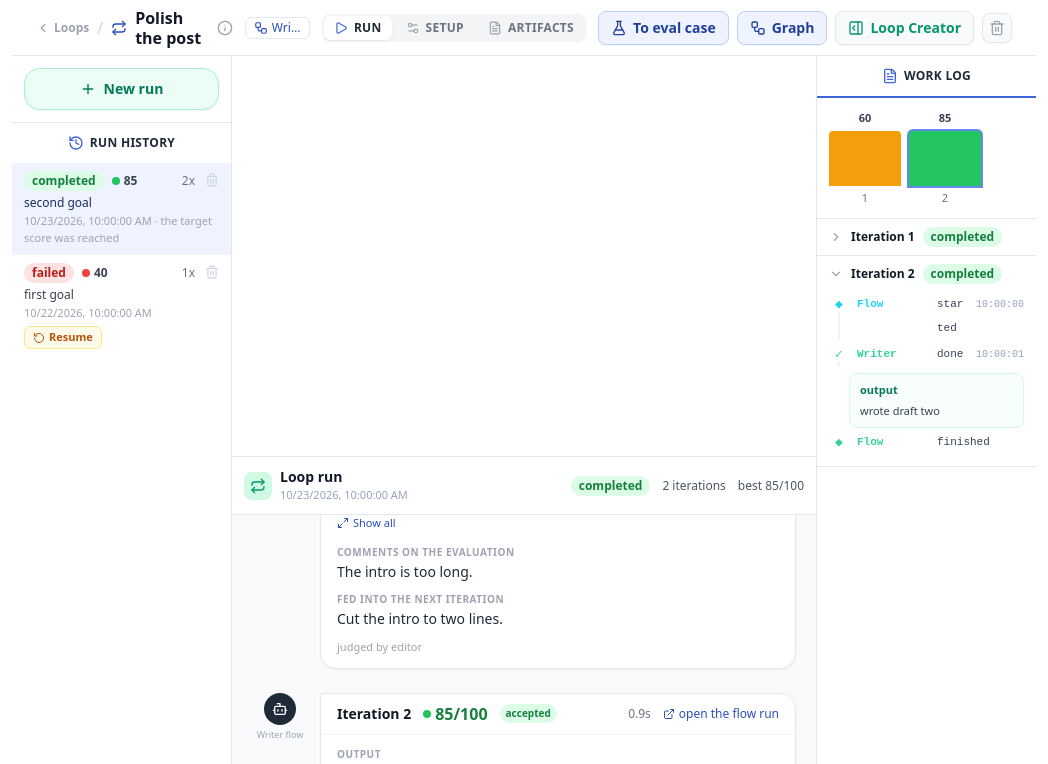
Test: LoopDetail: a loop on a page of its own › keeps the scores and each pass's work log in the right column
This screenshot has width=1048, height=764.
(page scrolled)
Expected: the element with test id "loop-trajectory" shows "85", [939,110,951,125]
Expected: the element with test id "loop-iteration-2" shows "wrote draft two", [860,402,940,418]
Click the text "Iteration 1": (883, 237) [851,229,915,245]
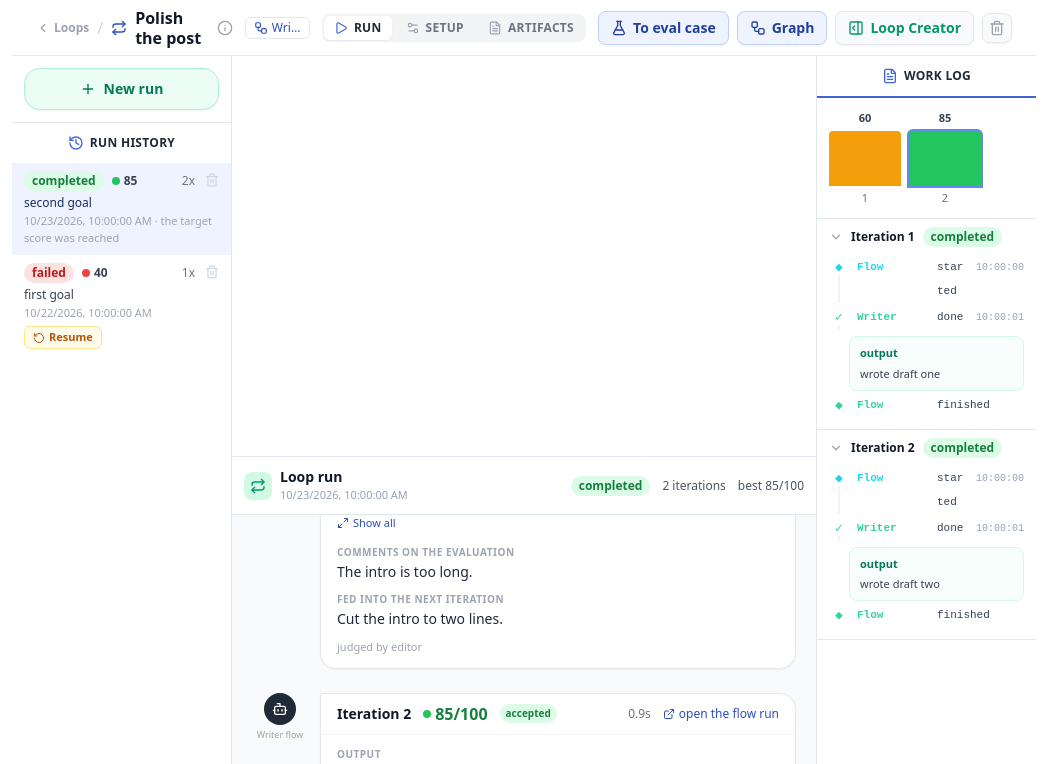
Expected: the element with test id "loop-iteration-1" shows "wrote draft one", [860,366,940,380]
